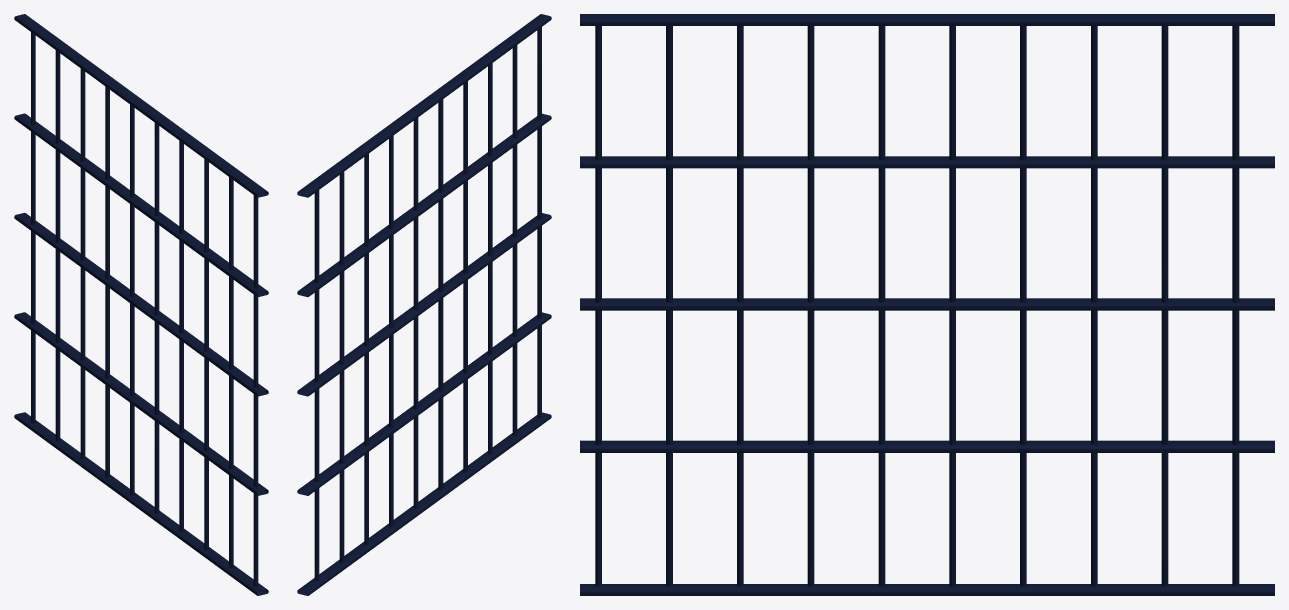
Rendered from Jail_Wall.fbx.
3 views of the same model, side by side, from view 1: azimuth 30°, elevation 25°; view 2: azimuth 150°, elevation 25°; view 3: azimuth 270°, elevation 25° (orthographic). The views are drawn at different scales.
Parts seen in each view (by area): view 1: Jail_Wall; view 2: Jail_Wall; view 3: Jail_Wall.
Boxes of the visible parts, bbox=[...] form: Jail_Wall: bbox=[14, 14, 268, 595]; Jail_Wall: bbox=[297, 14, 551, 595]; Jail_Wall: bbox=[580, 14, 1274, 595].
Bounding box in the file's own units: 14.39 × 478 × 523.
